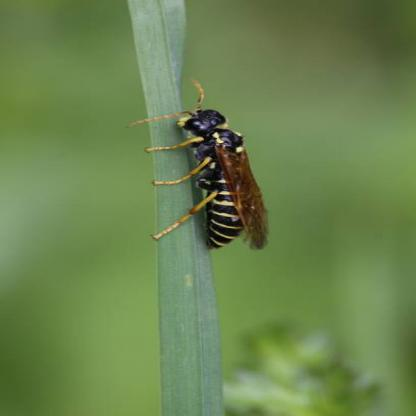sawfly: (136, 62, 289, 264)
